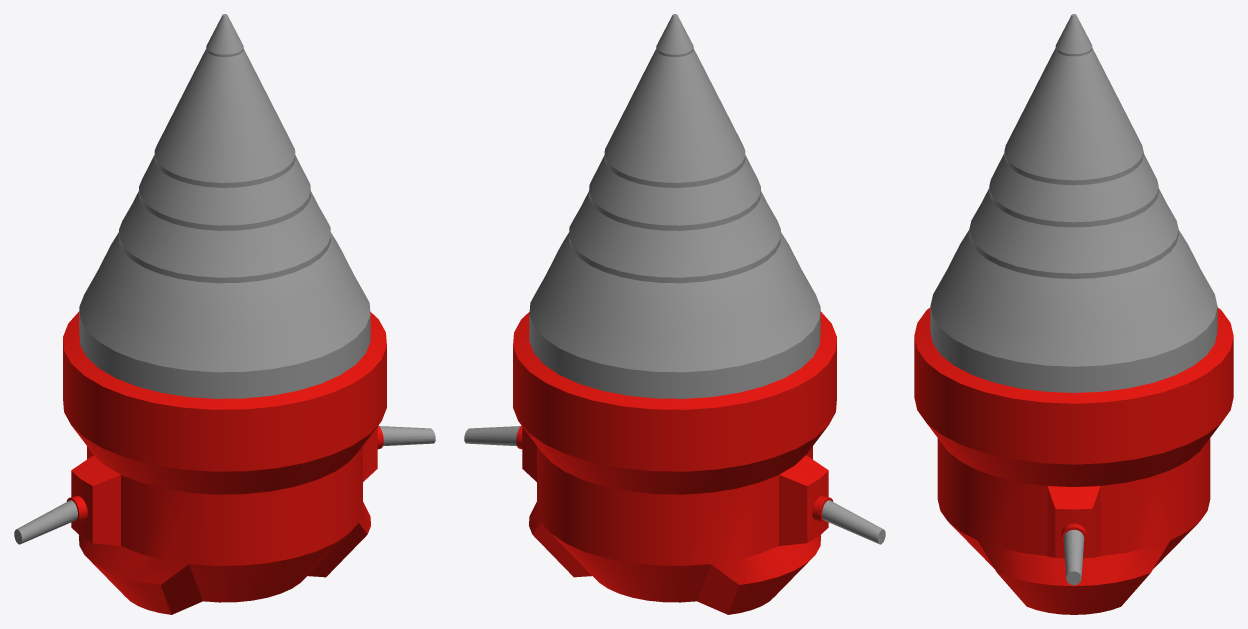
The model's file is drill.glb.
3 renders of one model, left to right at view 1: azimuth 30°, elevation 25°; view 2: azimuth 150°, elevation 25°; view 3: azimuth 270°, elevation 25°, orthographic.
Parts seen in each view (by area): view 1: Cone; view 2: Cone; view 3: Cone.
Boxes of the visible parts, x1,y1,x2,y2 form: Cone: [14, 14, 435, 614]; Cone: [464, 14, 885, 614]; Cone: [914, 14, 1233, 614].
Size of the model in its own units: 3.27 by 4.26 by 2.23.
